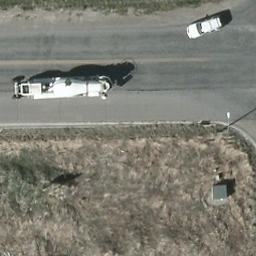car: (181, 13, 225, 41)
other: (9, 73, 114, 99)
